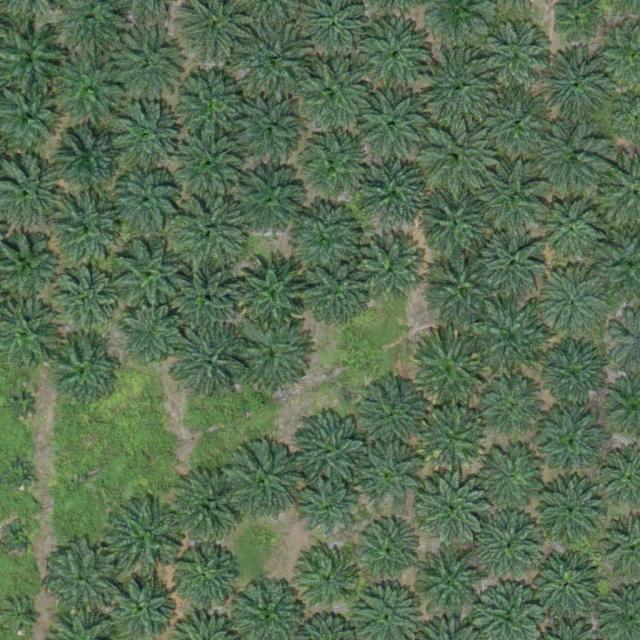Healthy: (47, 50, 125, 129), (106, 101, 184, 180), (108, 24, 186, 103), (109, 239, 187, 318), (174, 126, 252, 205), (174, 194, 252, 273), (171, 324, 249, 403), (288, 57, 366, 136), (233, 252, 311, 331), (236, 317, 314, 396), (419, 48, 497, 127), (416, 120, 494, 199), (290, 413, 368, 492), (224, 446, 302, 525), (109, 499, 187, 578), (174, 68, 252, 146), (291, 127, 369, 205), (284, 201, 362, 279), (49, 336, 120, 407), (54, 195, 125, 266), (117, 301, 188, 372), (539, 342, 610, 413), (417, 551, 488, 622), (47, 262, 117, 333), (56, 125, 127, 195), (170, 266, 240, 337), (234, 166, 304, 237), (234, 95, 305, 165), (242, 23, 313, 93), (361, 155, 431, 226), (356, 91, 426, 162), (359, 22, 429, 93), (422, 191, 492, 262), (426, 252, 496, 323), (479, 230, 550, 300), (477, 165, 548, 235), (482, 90, 552, 161), (480, 23, 550, 94), (539, 53, 609, 124), (541, 124, 611, 195), (533, 474, 603, 545), (477, 510, 547, 581), (419, 472, 490, 542), (173, 471, 243, 542), (112, 169, 182, 239), (300, 257, 370, 327), (357, 234, 427, 304), (477, 307, 547, 377), (531, 550, 601, 620), (476, 442, 546, 512), (47, 545, 117, 615), (544, 271, 607, 334), (480, 375, 543, 438), (365, 383, 428, 446), (355, 519, 418, 582), (540, 197, 602, 260), (541, 411, 603, 474), (358, 444, 420, 507), (297, 477, 359, 540), (295, 549, 358, 611), (111, 576, 173, 639), (173, 544, 235, 607)
Small: (5, 601, 36, 633), (5, 521, 36, 552), (7, 390, 38, 421), (5, 460, 36, 491)
Yellow: (411, 335, 489, 413), (422, 406, 484, 469)
